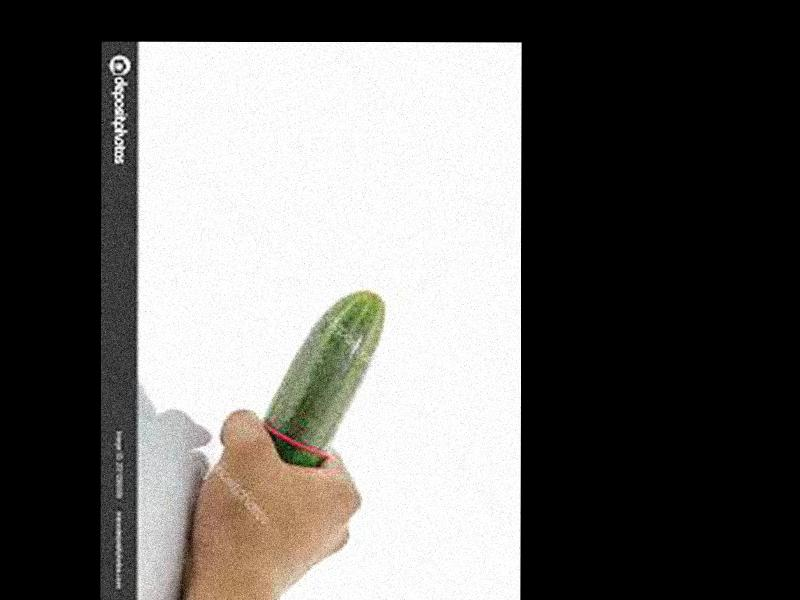Cucumber: (264, 290, 385, 467)
